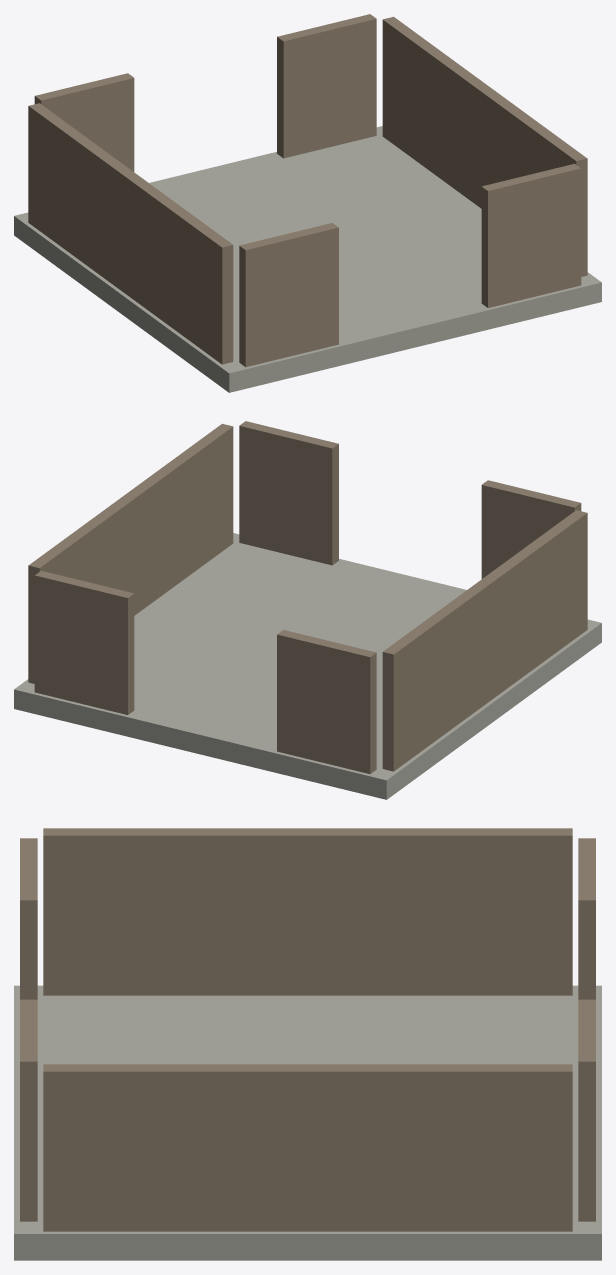
The model's file is passage-straight.glb.
The picture shows the model from 3 angles, top to bottom: view 1: azimuth 30°, elevation 25°; view 2: azimuth 150°, elevation 25°; view 3: azimuth 270°, elevation 25°; orthographic projection. The views are drawn at different scales.
Parts seen in each view (by area): view 1: straight_floor, straight_W_panel_0, straight_E_panel_0, straight_S_panel_1, straight_S_panel_0, straight_N_panel_1, straight_N_panel_0; view 2: straight_floor, straight_W_panel_0, straight_E_panel_0, straight_N_panel_1, straight_N_panel_0, straight_S_panel_1, straight_S_panel_0; view 3: straight_E_panel_0, straight_W_panel_0, straight_floor, straight_N_panel_1, straight_S_panel_1, straight_N_panel_0, straight_S_panel_0.
Boxes of the visible parts, x1,y1,x2,y2 form: straight_floor: [14, 126, 601, 392]; straight_W_panel_0: [28, 103, 233, 364]; straight_E_panel_0: [382, 16, 587, 276]; straight_S_panel_1: [481, 163, 581, 307]; straight_S_panel_0: [239, 223, 338, 367]; straight_N_panel_1: [277, 14, 376, 158]; straight_N_panel_0: [34, 73, 134, 171]; straight_floor: [14, 533, 601, 799]; straight_W_panel_0: [382, 510, 587, 771]; straight_E_panel_0: [28, 423, 233, 683]; straight_N_panel_1: [34, 570, 134, 714]; straight_N_panel_0: [277, 630, 376, 774]; straight_S_panel_1: [239, 421, 338, 565]; straight_S_panel_0: [481, 480, 581, 578]; straight_E_panel_0: [43, 1064, 572, 1231]; straight_W_panel_0: [43, 828, 572, 995]; straight_floor: [14, 985, 601, 1260]; straight_N_panel_1: [578, 999, 595, 1221]; straight_S_panel_1: [20, 999, 37, 1221]; straight_N_panel_0: [578, 838, 595, 999]; straight_S_panel_0: [20, 838, 37, 999].
Size of the model in its own units: 4 by 1.4 by 4.
